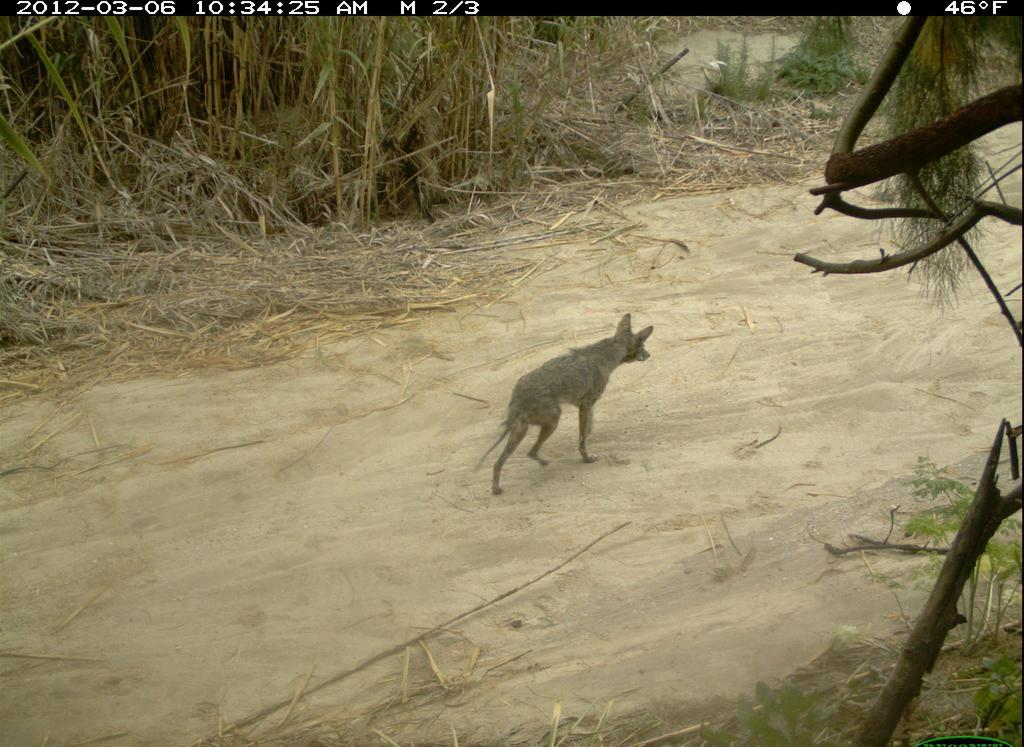coyote: (469, 309, 662, 500)
